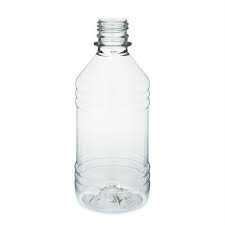available: (72, 14, 152, 213)
